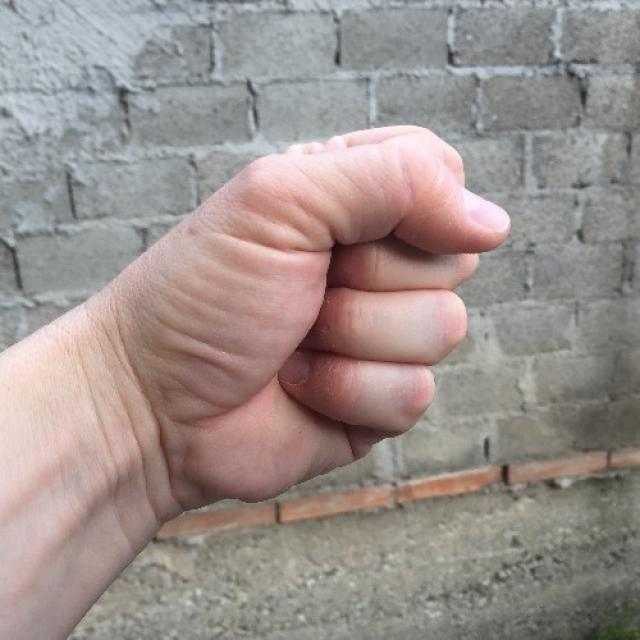fist: (131, 98, 520, 519)
